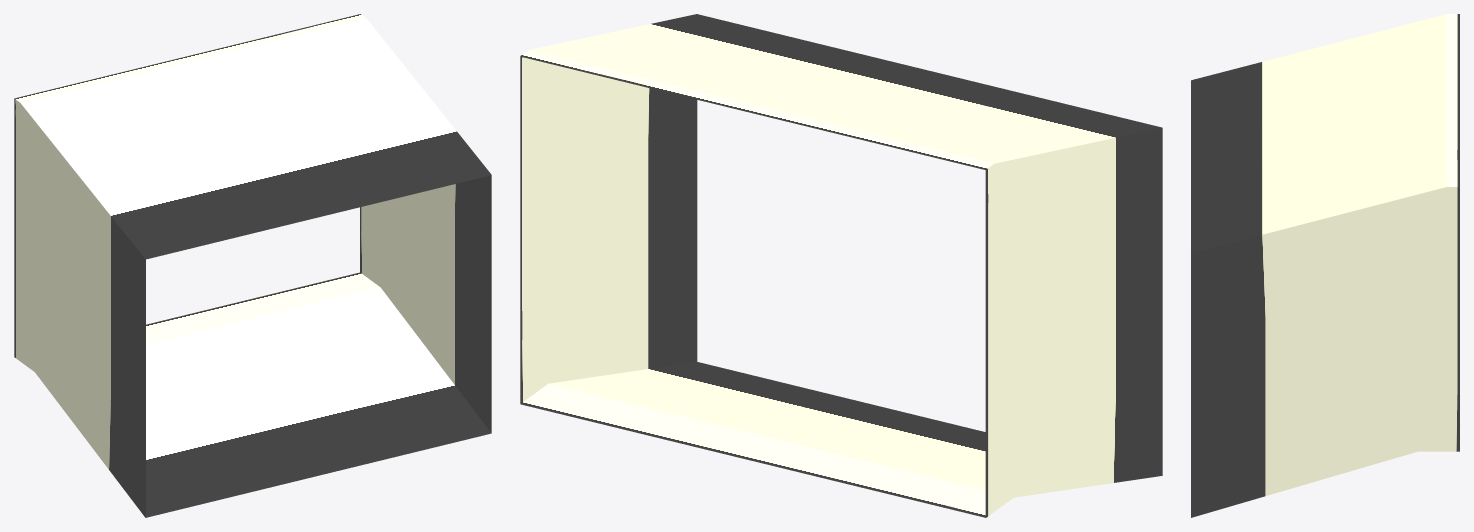
The model's file is fake_light_window_2_double.glb.
3 renders of one model, left to right at view 1: azimuth 30°, elevation 25°; view 2: azimuth 150°, elevation 25°; view 3: azimuth 270°, elevation 25°, orthographic. The views are drawn at different scales.
Parts seen in each view (by area): view 1: fake_light_window_2_double; view 2: fake_light_window_2_double; view 3: fake_light_window_2_double.
Part boxes in pixels (box(x1,y1,x2,y2)): fake_light_window_2_double: box(14, 14, 491, 517); fake_light_window_2_double: box(520, 14, 1162, 517); fake_light_window_2_double: box(1191, 14, 1459, 517).
Bounding box in the file's own units: 2.24 × 2 × 1.47.
1 material, 1 textured.
